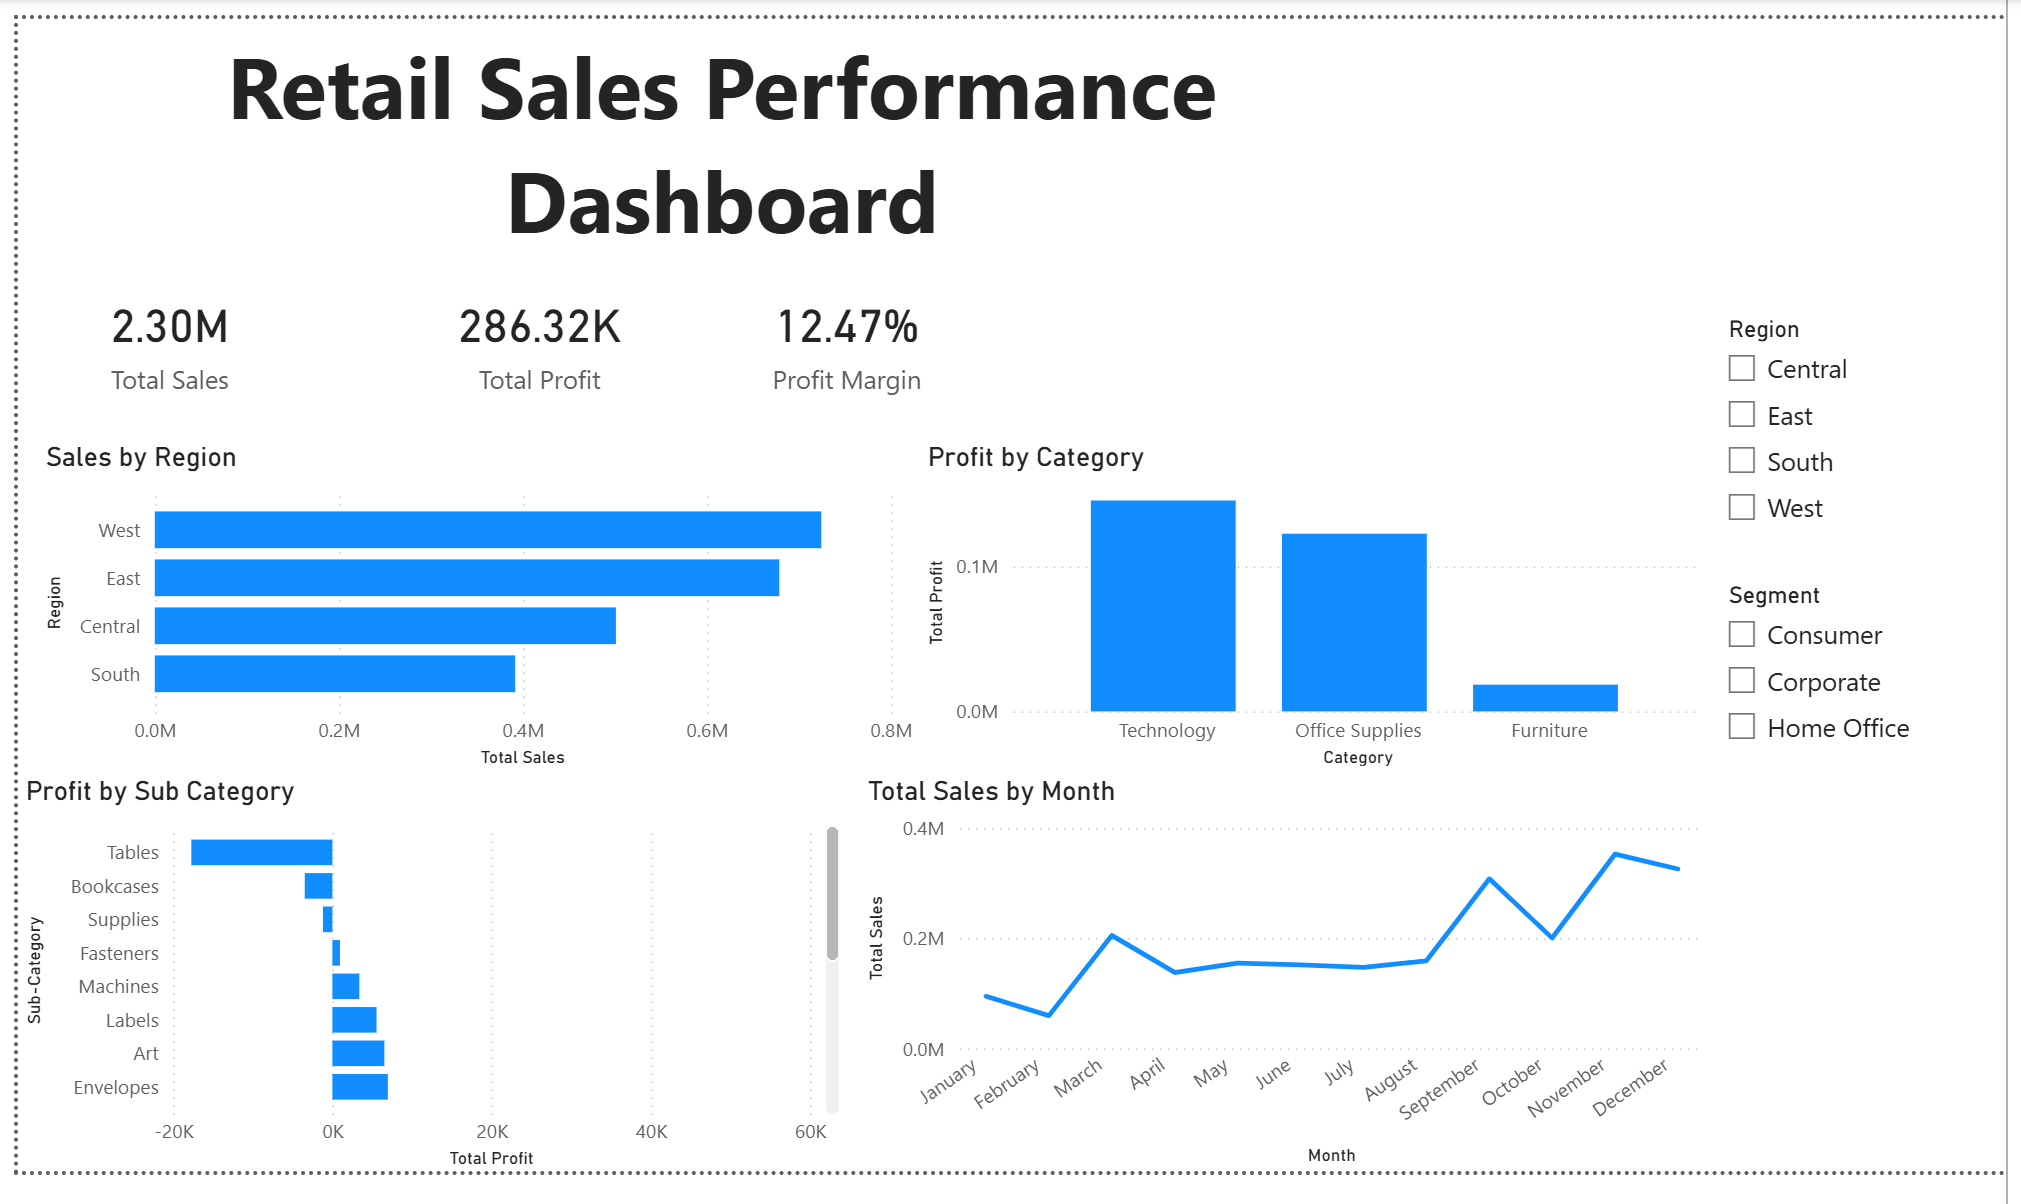

The page's visual inventory and layout, read from the dashboard file:
{"tool":"powerbi","page":{"name":"Page 1","canvas":[1280,720],"ordinal":0},"visuals":[{"type":"card","fields":{"Values":["Sum(superstore_utf8.Total Profit)"]},"box":[190,138,272,126],"z":0},{"type":"card","fields":{"Values":["Sum(superstore_utf8.Total Sales)"]},"box":[0,138,190,126],"z":1},{"type":"card","fields":{"Values":["superstore_utf8.Profit Margin"]},"box":[420,138,196,126],"z":2},{"type":"clusteredBarChart","title":"Sales by Region","fields":{"Category":["superstore_utf8.Region"],"Y":["Sum(superstore_utf8.Total Sales)"]},"box":[12,264,552,208],"z":3},{"type":"columnChart","title":"Profit by Category","fields":{"Category":["superstore_utf8.Category"],"Y":["Sum(superstore_utf8.Total Profit)"]},"box":[564,264,494,208],"z":4},{"type":"barChart","title":"Profit by Sub Category","fields":{"Category":["superstore_utf8.Sub-Category"],"Y":["Sum(superstore_utf8.Total Profit)"]},"box":[0,472,518,250],"z":5},{"type":"lineChart","title":"Total Sales by Month","fields":{"Y":["Sum(superstore_utf8.Total Sales)"],"Category":["superstore_utf8.Order Date.Variation.Date Hierarchy.Month"]},"box":[526,472,532,248],"z":6},{"type":"slicer","fields":{"Values":["superstore_utf8.Region"]},"box":[1056,180,224,166],"z":7},{"type":"slicer","fields":{"Values":["superstore_utf8.Segment"]},"box":[1056,346,224,126],"z":8},{"type":"textbox","box":[0,0,880,152],"z":9}]}

Visuals, with their boxes on the page's 1280x720 design canvas (x1, y1, x2, y2). These are canvas units, not pixel positions in the 2021x1204 screenshot, which may show the page scaled, cropped or inside an application window:
card - Sum(superstore_utf8.Total Profit): 190, 138, 462, 264
card - Sum(superstore_utf8.Total Sales): 0, 138, 190, 264
card - superstore_utf8.Profit Margin: 420, 138, 616, 264
"Sales by Region" clusteredBarChart: 12, 264, 564, 472
"Profit by Category" columnChart: 564, 264, 1058, 472
"Profit by Sub Category" barChart: 0, 472, 518, 722
"Total Sales by Month" lineChart: 526, 472, 1058, 720
slicer - superstore_utf8.Region: 1056, 180, 1280, 346
slicer - superstore_utf8.Segment: 1056, 346, 1280, 472
textbox: 0, 0, 880, 152
